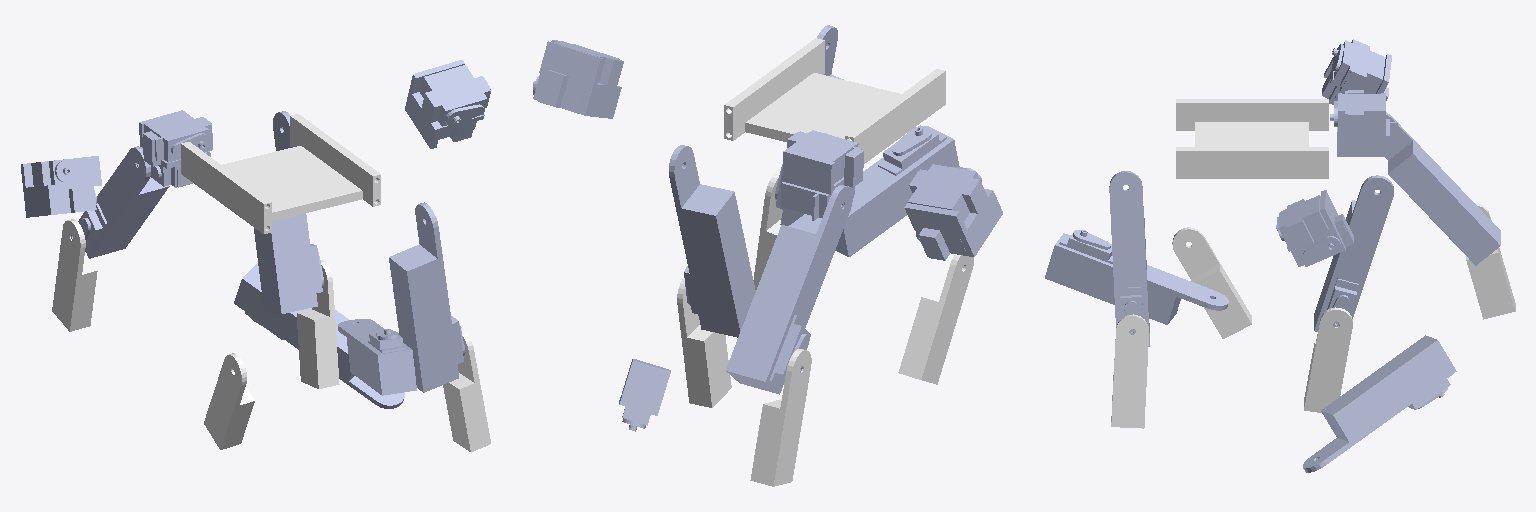
URDF robot description (chyPapa3):
<?xml version="1.0" encoding="utf-8"?>
<!-- This URDF was automatically created by SolidWorks to URDF Exporter! Originally created by [author] ([email redacted]) 
     Commit Version: 1.4.4-24-g24328f6  Build Version: 1.5.7084.36479
     For more information, please see http://wiki.ros.org/sw_urdf_exporter -->
<robot
  name="chyPapa3">
  <link
    name="base_link">
    <inertial>
      <origin
        xyz="-0.230423351451275 -0.093531973488492 -0.0325498237805957"
        rpy="0 0 0" />
      <mass
        value="0.140972114032924" />
      <inertia
        ixx="0.000172858210708355"
        ixy="-9.20364029031996E-08"
        ixz="-1.60625193941858E-06"
        iyy="0.000238776777529016"
        iyz="-1.46977761927676E-07"
        izz="0.000396584509314805" />
    </inertial>
    <visual>
      <origin
        xyz="0 0 0"
        rpy="0 0 0" />
      <geometry>
        <mesh
          filename="package://chyPapa3/meshes/base_link.STL" />
      </geometry>
      <material
        name="">
        <color
          rgba="1 1 1 1" />
      </material>
    </visual>
    <collision>
      <origin
        xyz="0 0 0"
        rpy="0 0 0" />
      <geometry>
        <mesh
          filename="package://chyPapa3/meshes/base_link.STL" />
      </geometry>
    </collision>
  </link>
  <link
    name="Link_shoulder_re">
    <inertial>
      <origin
        xyz="-0.0472607836346183 0.054949875977015 0.0515172290671969"
        rpy="0 0 0" />
      <mass
        value="0.100243096491449" />
      <inertia
        ixx="2.42612831517242E-05"
        ixy="-1.86088562719441E-06"
        ixz="-5.53068094423268E-07"
        iyy="3.36320922407044E-05"
        iyz="5.0394362959962E-06"
        izz="2.70772599440709E-05" />
    </inertial>
    <visual>
      <origin
        xyz="0 0 0"
        rpy="0 0 0" />
      <geometry>
        <mesh
          filename="package://chyPapa3/meshes/Link_shoulder_re.STL" />
      </geometry>
      <material
        name="">
        <color
          rgba="0.792156862745098 0.819607843137255 0.933333333333333 1" />
      </material>
    </visual>
    <collision>
      <origin
        xyz="0 0 0"
        rpy="0 0 0" />
      <geometry>
        <mesh
          filename="package://chyPapa3/meshes/Link_shoulder_re.STL" />
      </geometry>
    </collision>
  </link>
  <joint
    name="Joint_shoulder_body_re"
    type="revolute">
    <origin
      xyz="-0.31205 -0.21515 -0.11184"
      rpy="1.1323 0.12088 3.0913" />
    <parent
      link="base_link" />
    <child
      link="Link_shoulder_re" />
    <axis
      xyz="0 0 0" />
    <limit
      lower="-0.5"
      upper="1.5"
      effort="100"
      velocity="0" />
    <safety_controller
      k_velocity="0" />
  </joint>
  <link
    name="Link_arm_re">
    <inertial>
      <origin
        xyz="-0.0887176959583127 -9.78664314618682E-06 0.0311733663885135"
        rpy="0 0 0" />
      <mass
        value="0.142407450848651" />
      <inertia
        ixx="2.75635595359299E-05"
        ixy="-5.7058093019094E-08"
        ixz="8.77069719142018E-06"
        iyy="0.000176021146099794"
        iyz="-3.20645360768237E-09"
        izz="0.000168884898886195" />
    </inertial>
    <visual>
      <origin
        xyz="0 0 0"
        rpy="0 0 0" />
      <geometry>
        <mesh
          filename="package://chyPapa3/meshes/Link_arm_re.STL" />
      </geometry>
      <material
        name="">
        <color
          rgba="0.792156862745098 0.819607843137255 0.933333333333333 1" />
      </material>
    </visual>
    <collision>
      <origin
        xyz="0 0 0"
        rpy="0 0 0" />
      <geometry>
        <mesh
          filename="package://chyPapa3/meshes/Link_arm_re.STL" />
      </geometry>
    </collision>
  </link>
  <joint
    name="Joint_arm_shoulder_re"
    type="revolute">
    <origin
      xyz="-0.0030423 0.052147 0.033994"
      rpy="-1.5493 0.010135 1.6433" />
    <parent
      link="Link_shoulder_re" />
    <child
      link="Link_arm_re" />
    <axis
      xyz="0 0 -1" />
    <limit
      lower="-1.5"
      upper="1.5"
      effort="100"
      velocity="0" />
    <safety_controller
      k_velocity="0" />
  </joint>
  <link
    name="Link_hand_re">
    <inertial>
      <origin
        xyz="0.0526382833749994 -5.55111512312578E-17 -0.00765118185521418"
        rpy="0 0 0" />
      <mass
        value="0.0420735853495988" />
      <inertia
        ixx="4.63824751744344E-06"
        ixy="1.27054942088145E-20"
        ixz="1.99944788512831E-06"
        iyy="2.67304876167845E-05"
        iyz="1.12249091126055E-21"
        izz="2.83575795096436E-05" />
    </inertial>
    <visual>
      <origin
        xyz="0 0 0"
        rpy="0 0 0" />
      <geometry>
        <mesh
          filename="package://chyPapa3/meshes/Link_hand_re.STL" />
      </geometry>
      <material
        name="">
        <color
          rgba="1 1 1 1" />
      </material>
    </visual>
    <collision>
      <origin
        xyz="0 0 0"
        rpy="0 0 0" />
      <geometry>
        <mesh
          filename="package://chyPapa3/meshes/Link_hand_re.STL" />
      </geometry>
    </collision>
  </link>
  <joint
    name="Joint_hand_arm_re"
    type="revolute">
    <origin
      xyz="-0.13 0 0"
      rpy="-3.1416 0 -3.0781" />
    <parent
      link="Link_arm_re" />
    <child
      link="Link_hand_re" />
    <axis
      xyz="0 0 1" />
    <limit
      lower="-1.5"
      upper="1.5"
      effort="100"
      velocity="0" />
    <safety_controller
      k_velocity="0" />
  </joint>
  <link
    name="Link_shoulder_lf">
    <inertial>
      <origin
        xyz="0.00880702961281377 -0.00777736905669588 -0.0119978154350034"
        rpy="0 0 0" />
      <mass
        value="0.100243096491449" />
      <inertia
        ixx="2.42612831517242E-05"
        ixy="-1.86088562719441E-06"
        ixz="-5.53068094423263E-07"
        iyy="3.36320922407043E-05"
        iyz="5.0394362959962E-06"
        izz="2.70772599440709E-05" />
    </inertial>
    <visual>
      <origin
        xyz="0 0 0"
        rpy="0 0 0" />
      <geometry>
        <mesh
          filename="package://chyPapa3/meshes/Link_shoulder_lf.STL" />
      </geometry>
      <material
        name="">
        <color
          rgba="0.792156862745098 0.819607843137255 0.933333333333333 1" />
      </material>
    </visual>
    <collision>
      <origin
        xyz="0 0 0"
        rpy="0 0 0" />
      <geometry>
        <mesh
          filename="package://chyPapa3/meshes/Link_shoulder_lf.STL" />
      </geometry>
    </collision>
  </link>
  <joint
    name="Joint_shoulder_body_lf"
    type="revolute">
    <origin
      xyz="-0.19592 0 -0.021664"
      rpy="1.1344 0.0799 -0.050067" />
    <parent
      link="base_link" />
    <child
      link="Link_shoulder_lf" />
    <axis
      xyz="0.049886 -0.41855 0.90682" />
    <limit
      lower="-0.5"
      upper="1.5"
      effort="100"
      velocity="0" />
    <safety_controller
      k_velocity="0" />
  </joint>
  <link
    name="Link_arm_lf">
    <inertial>
      <origin
        xyz="-0.0887176959583125 -9.78664314662397E-06 -0.0215728915869191"
        rpy="0 0 0" />
      <mass
        value="0.142407450848651" />
      <inertia
        ixx="2.75635595359299E-05"
        ixy="-5.70580930190347E-08"
        ixz="8.77069719142033E-06"
        iyy="0.000176021146099794"
        iyz="-3.20645360767699E-09"
        izz="0.000168884898886195" />
    </inertial>
    <visual>
      <origin
        xyz="0 0 0"
        rpy="0 0 0" />
      <geometry>
        <mesh
          filename="package://chyPapa3/meshes/Link_arm_lf.STL" />
      </geometry>
      <material
        name="">
        <color
          rgba="0.792156862745098 0.819607843137255 0.933333333333333 1" />
      </material>
    </visual>
    <collision>
      <origin
        xyz="0 0 0"
        rpy="0 0 0" />
      <geometry>
        <mesh
          filename="package://chyPapa3/meshes/Link_arm_lf.STL" />
      </geometry>
    </collision>
  </link>
  <joint
    name="Joint_arm_shoulder_lf"
    type="revolute">
    <origin
      xyz="0.00042917 -0.014389 -0.028385"
      rpy="-1.549 -0.14452 1.64" />
    <parent
      link="Link_shoulder_lf" />
    <child
      link="Link_arm_lf" />
    <axis
      xyz="0 0 -1" />
    <limit
      lower="-1.5"
      upper="1.5"
      effort="100"
      velocity="0" />
    <safety_controller
      k_velocity="0" />
  </joint>
  <link
    name="Link_hand_lf">
    <inertial>
      <origin
        xyz="0.0526382833749994 5.55111512312578E-17 0.0110840995819475"
        rpy="0 0 0" />
      <mass
        value="0.0420735853495988" />
      <inertia
        ixx="4.63824751744343E-06"
        ixy="-1.93758786684421E-20"
        ixz="1.99944788512827E-06"
        iyy="2.67304876167845E-05"
        iyz="1.49896309466781E-21"
        izz="2.83575795096436E-05" />
    </inertial>
    <visual>
      <origin
        xyz="0 0 0"
        rpy="0 0 0" />
      <geometry>
        <mesh
          filename="package://chyPapa3/meshes/Link_hand_lf.STL" />
      </geometry>
      <material
        name="">
        <color
          rgba="1 1 1 1" />
      </material>
    </visual>
    <collision>
      <origin
        xyz="0 0 0"
        rpy="0 0 0" />
      <geometry>
        <mesh
          filename="package://chyPapa3/meshes/Link_hand_lf.STL" />
      </geometry>
    </collision>
  </link>
  <joint
    name="Joint_hand_arm_lf"
    type="revolute">
    <origin
      xyz="-0.13 0 -0.034011"
      rpy="3.1416 0 3.0138" />
    <parent
      link="Link_arm_lf" />
    <child
      link="Link_hand_lf" />
    <axis
      xyz="0 0 1" />
    <limit
      lower="-1.5"
      upper="1.5"
      effort="100"
      velocity="0" />
    <safety_controller
      k_velocity="0" />
  </joint>
  <link
    name="Link_shoulder_rf">
    <inertial>
      <origin
        xyz="-0.0962915704954283 0.0620236518344938 -0.0215728915869191"
        rpy="0 0 0" />
      <mass
        value="0.142407450848651" />
      <inertia
        ixx="2.75635595359299E-05"
        ixy="-5.70580930190402E-08"
        ixz="8.77069719142034E-06"
        iyy="0.000176021146099793"
        iyz="-3.20645360767816E-09"
        izz="0.000168884898886195" />
    </inertial>
    <visual>
      <origin
        xyz="0 0 0"
        rpy="0 0 0" />
      <geometry>
        <mesh
          filename="package://chyPapa3/meshes/Link_shoulder_rf.STL" />
      </geometry>
      <material
        name="">
        <color
          rgba="0.792156862745098 0.819607843137255 0.933333333333333 1" />
      </material>
    </visual>
    <collision>
      <origin
        xyz="0 0 0"
        rpy="0 0 0" />
      <geometry>
        <mesh
          filename="package://chyPapa3/meshes/Link_shoulder_rf.STL" />
      </geometry>
    </collision>
  </link>
  <joint
    name="Joint_shoulder_body_rf"
    type="continuous">
    <origin
      xyz="-0.19592 -0.037579 -0.021664"
      rpy="-1.489 -1.2798 1.4925" />
    <parent
      link="base_link" />
    <child
      link="Link_shoulder_rf" />
    <axis
      xyz="-0.28602 -0.95822 0" />
    <limit
      lower="-0.5"
      upper="1.5"
      effort="100"
      velocity="0" />
    <safety_controller
      k_velocity="0" />
  </joint>
  <link
    name="Link_arm_rf">
    <inertial>
      <origin
        xyz="-0.121470593076782 0.000557870354713247 -0.0235728915869192"
        rpy="0 0 0" />
      <mass
        value="0.142407450848651" />
      <inertia
        ixx="2.756355953593E-05"
        ixy="-5.70580930190669E-08"
        ixz="8.77069719142084E-06"
        iyy="0.000176021146099793"
        iyz="-3.20645360767924E-09"
        izz="0.000168884898886195" />
    </inertial>
    <visual>
      <origin
        xyz="0 0 0"
        rpy="0 0 0" />
      <geometry>
        <mesh
          filename="package://chyPapa3/meshes/Link_arm_rf.STL" />
      </geometry>
      <material
        name="">
        <color
          rgba="0.792156862745098 0.819607843137255 0.933333333333333 1" />
      </material>
    </visual>
    <collision>
      <origin
        xyz="0 0 0"
        rpy="0 0 0" />
      <geometry>
        <mesh
          filename="package://chyPapa3/meshes/Link_arm_rf.STL" />
      </geometry>
    </collision>
  </link>
  <joint
    name="Joint_arm_shoulder_rf"
    type="revolute">
    <origin
      xyz="0.0090645 0.03602 0.068981"
      rpy="-3.1034 -0.043558 -1.0108" />
    <parent
      link="Link_shoulder_rf" />
    <child
      link="Link_arm_rf" />
    <axis
      xyz="0 0 -1" />
    <limit
      lower="-1.5"
      upper="1.5"
      effort="100"
      velocity="0" />
    <safety_controller
      k_velocity="0" />
  </joint>
  <link
    name="Link_hand_rf">
    <inertial>
      <origin
        xyz="0.0526382833749994 1.38777878078145E-17 0.0148609248737365"
        rpy="0 0 0" />
      <mass
        value="0.0420735853495988" />
      <inertia
        ixx="4.63824751744344E-06"
        ixy="-1.09055491958991E-20"
        ixz="1.99944788512831E-06"
        iyy="2.67304876167844E-05"
        iyz="-2.34984345670738E-21"
        izz="2.83575795096435E-05" />
    </inertial>
    <visual>
      <origin
        xyz="0 0 0"
        rpy="0 0 0" />
      <geometry>
        <mesh
          filename="package://chyPapa3/meshes/Link_hand_rf.STL" />
      </geometry>
      <material
        name="">
        <color
          rgba="1 1 1 1" />
      </material>
    </visual>
    <collision>
      <origin
        xyz="0 0 0"
        rpy="0 0 0" />
      <geometry>
        <mesh
          filename="package://chyPapa3/meshes/Link_hand_rf.STL" />
      </geometry>
    </collision>
  </link>
  <joint
    name="Joint_hand_arm_rf"
    type="revolute">
    <origin
      xyz="-0.16275 0.00056766 -0.032234"
      rpy="3.1416 0 2.6822" />
    <parent
      link="Link_arm_rf" />
    <child
      link="Link_hand_rf" />
    <axis
      xyz="0 0 1" />
    <limit
      lower="-1.5"
      upper="1.5"
      effort="100"
      velocity="0" />
    <safety_controller
      k_velocity="0" />
  </joint>
  <link
    name="Link_shoulder_le">
    <inertial>
      <origin
        xyz="0.00677563067209044 0.0103462547801396 -0.0125385666118627"
        rpy="0 0 0" />
      <mass
        value="0.0972345115037999" />
      <inertia
        ixx="2.28240618340508E-05"
        ixy="-2.92665574145196E-07"
        ixz="-7.57120527244679E-07"
        iyy="2.13627240737563E-05"
        iyz="-8.22143297700772E-07"
        izz="3.27513952111922E-05" />
    </inertial>
    <visual>
      <origin
        xyz="0 0 0"
        rpy="0 0 0" />
      <geometry>
        <mesh
          filename="package://chyPapa3/meshes/Link_shoulder_le.STL" />
      </geometry>
      <material
        name="">
        <color
          rgba="0.792156862745098 0.819607843137255 0.933333333333333 1" />
      </material>
    </visual>
    <collision>
      <origin
        xyz="0 0 0"
        rpy="0 0 0" />
      <geometry>
        <mesh
          filename="package://chyPapa3/meshes/Link_shoulder_le.STL" />
      </geometry>
    </collision>
  </link>
  <joint
    name="Joint_shoulder_body_le"
    type="revolute">
    <origin
      xyz="-0.26492 0 -0.021664"
      rpy="-0.034518 0 1.5708" />
    <parent
      link="base_link" />
    <child
      link="Link_shoulder_le" />
    <axis
      xyz="1 0 0" />
    <limit
      lower="-0.5"
      upper="1.5"
      effort="100"
      velocity="0" />
    <safety_controller
      k_velocity="0" />
  </joint>
  <link
    name="Link_arm_le">
    <inertial>
      <origin
        xyz="-0.112687515826778 -0.0230036690388469 -0.0235728915869191"
        rpy="0 0 0" />
      <mass
        value="0.142407450848651" />
      <inertia
        ixx="2.75635595359299E-05"
        ixy="-5.70580930190226E-08"
        ixz="8.77069719142056E-06"
        iyy="0.000176021146099793"
        iyz="-3.20645360768185E-09"
        izz="0.000168884898886195" />
    </inertial>
    <visual>
      <origin
        xyz="0 0 0"
        rpy="0 0 0" />
      <geometry>
        <mesh
          filename="package://chyPapa3/meshes/Link_arm_le.STL" />
      </geometry>
      <material
        name="">
        <color
          rgba="0.792156862745098 0.819607843137255 0.933333333333333 1" />
      </material>
    </visual>
    <collision>
      <origin
        xyz="0 0 0"
        rpy="0 0 0" />
      <geometry>
        <mesh
          filename="package://chyPapa3/meshes/Link_arm_le.STL" />
      </geometry>
    </collision>
  </link>
  <joint
    name="Joint_arm_shoulder_le"
    type="revolute">
    <origin
      xyz="-0.18543 -0.068876 -0.0026472"
      rpy="2.7954 -1.4362 1.9199" />
    <parent
      link="Link_shoulder_le" />
    <child
      link="Link_arm_le" />
    <axis
      xyz="-0.18328 -0.0084218 -0.98302" />
    <limit
      lower="-1.5"
      upper="1.5"
      effort="100"
      velocity="0" />
    <safety_controller
      k_velocity="0" />
  </joint>
  <link
    name="Link_hand_le">
    <inertial>
      <origin
        xyz="0.0526382833749993 -2.77555756156289E-17 0.0279244913698186"
        rpy="0 0 0" />
      <mass
        value="0.0420735853495988" />
      <inertia
        ixx="4.63824751744344E-06"
        ixy="-8.60267837055149E-22"
        ixz="1.99944788512827E-06"
        iyy="2.67304876167845E-05"
        iyz="2.69274188903408E-21"
        izz="2.83575795096437E-05" />
    </inertial>
    <visual>
      <origin
        xyz="0 0 0"
        rpy="0 0 0" />
      <geometry>
        <mesh
          filename="package://chyPapa3/meshes/Link_hand_le.STL" />
      </geometry>
      <material
        name="">
        <color
          rgba="1 1 1 1" />
      </material>
    </visual>
    <collision>
      <origin
        xyz="0 0 0"
        rpy="0 0 0" />
      <geometry>
        <mesh
          filename="package://chyPapa3/meshes/Link_hand_le.STL" />
      </geometry>
    </collision>
  </link>
  <joint
    name="Joint_hand_arm_le"
    type="revolute">
    <origin
      xyz="-0.15397 -0.022994 -0.019171"
      rpy="-3.1416 0 -3.0485" />
    <parent
      link="Link_arm_le" />
    <child
      link="Link_hand_le" />
    <axis
      xyz="-0.1261 -0.0059587 -0.992" />
    <limit
      lower="-1.5"
      upper="1.5"
      effort="100"
      velocity="0" />
    <safety_controller
      k_velocity="0" />
  </joint>
</robot>

--- What the picture shows (computed from the rendered views, not written in the file) ---
3 views of the same robot in one strip: view 1: azimuth 30°, elevation 25°; view 2: azimuth 150°, elevation 25°; view 3: azimuth 270°, elevation 25° (orthographic).
Model chyPapa3 with 13 links and 12 joints (11 revolute, 1 continuous), rooted at base_link, posed every joint at zero.
Visible links, largest first — view 1: base_link, Link_arm_le, Link_arm_lf, Link_shoulder_re, Link_arm_rf, Link_shoulder_rf, Link_shoulder_lf, Link_shoulder_le, Link_hand_lf, Link_hand_rf, Link_arm_re, Link_hand_le (+1 smaller); view 2: base_link, Link_arm_rf, Link_arm_lf, Link_shoulder_rf, Link_shoulder_lf, Link_shoulder_le, Link_shoulder_re, Link_hand_rf, Link_hand_re, Link_hand_lf, Link_arm_re, Link_hand_le (+1 smaller); view 3: base_link, Link_arm_re, Link_arm_rf, Link_shoulder_rf, Link_arm_lf, Link_arm_le, Link_shoulder_re, Link_hand_le, Link_shoulder_le, Link_hand_re, Link_hand_lf, Link_shoulder_lf (+1 smaller).
Boxes of the visible links, x1,y1,x2,y2 form: base_link: (181,114,380,233); Link_arm_le: (389,202,465,392); Link_arm_lf: (254,111,323,313); Link_shoulder_re: (405,60,490,148); Link_arm_rf: (71,146,169,258); Link_shoulder_rf: (338,319,416,395); Link_shoulder_lf: (21,156,101,217); Link_shoulder_le: (137,110,212,187); Link_hand_lf: (297,260,339,388); Link_hand_rf: (52,219,97,331); Link_arm_re: (234,263,404,408); Link_hand_le: (443,327,490,451); base_link: (724,38,945,163); Link_arm_rf: (726,185,852,394); Link_arm_lf: (669,145,755,337); Link_shoulder_rf: (788,125,959,256); Link_shoulder_lf: (904,164,1002,260); Link_shoulder_le: (781,130,863,220); Link_shoulder_re: (533,40,623,118); Link_hand_rf: (750,349,811,486); Link_hand_re: (898,254,973,384); Link_hand_lf: (677,278,731,407); Link_arm_re: (619,359,670,431); Link_hand_le: (753,169,782,289); base_link: (1176,99,1328,178); Link_arm_re: (1303,335,1456,472); Link_arm_rf: (1385,112,1500,265); Link_shoulder_rf: (1045,230,1228,324); Link_arm_lf: (1314,175,1393,331); Link_arm_le: (1109,171,1149,346); Link_shoulder_re: (1276,190,1353,266); Link_hand_le: (1111,314,1148,428); Link_shoulder_le: (1330,90,1397,156); Link_hand_re: (1172,227,1251,338); Link_hand_lf: (1304,307,1352,412); Link_shoulder_lf: (1322,39,1391,104).
Bounding box of the posed robot: 0.4056 × 0.4248 × 0.2962 m (x, y, z).
Meshes: 13 distinct files referenced, 13 mesh visuals loaded (13 binary STL).
